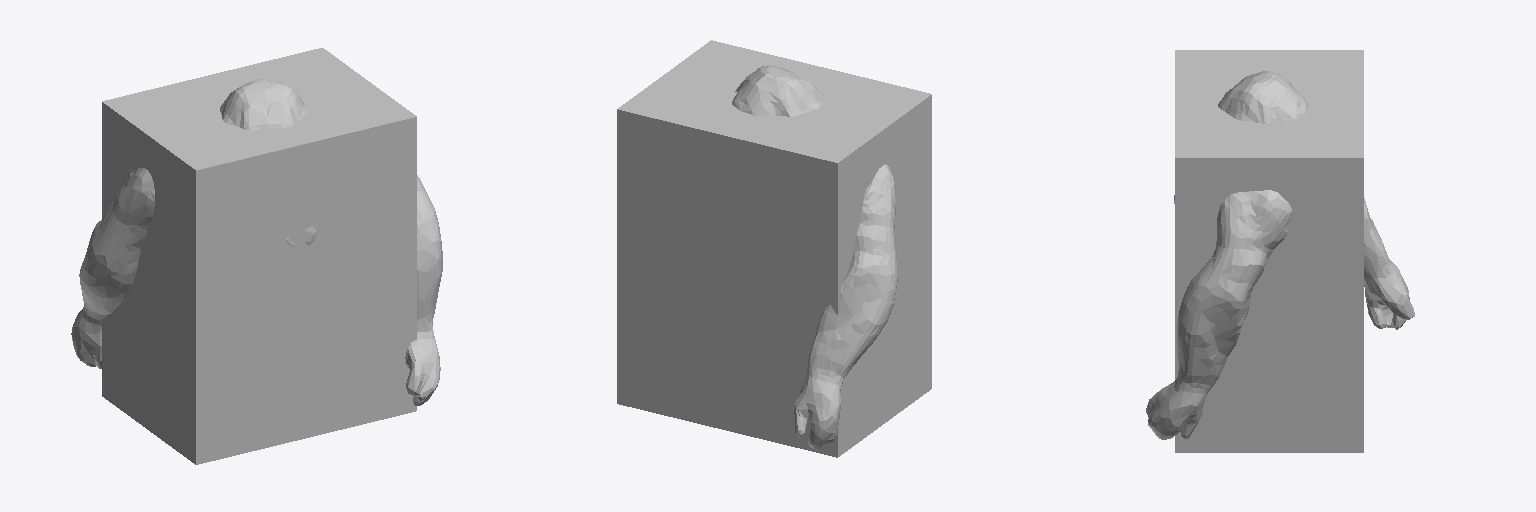
File: MagmaElemental_1_000025.obj
3 renders of one model, left to right at view 1: azimuth 30°, elevation 25°; view 2: azimuth 150°, elevation 25°; view 3: azimuth 270°, elevation 25°, orthographic.
Parts seen in each view (by area): view 1: Cube, Elemental_FireGolem; view 2: Cube, Elemental_FireGolem; view 3: Cube, Elemental_FireGolem.
Part boxes in pixels (bbox=[...]): Cube: bbox=[102, 48, 416, 464]; Elemental_FireGolem: bbox=[71, 78, 442, 405]; Cube: bbox=[617, 40, 931, 457]; Elemental_FireGolem: bbox=[732, 65, 897, 449]; Cube: bbox=[1175, 50, 1363, 452]; Elemental_FireGolem: bbox=[1146, 71, 1414, 439].
Size of the model in its own units: 3.37 by 3.91 by 2.67.